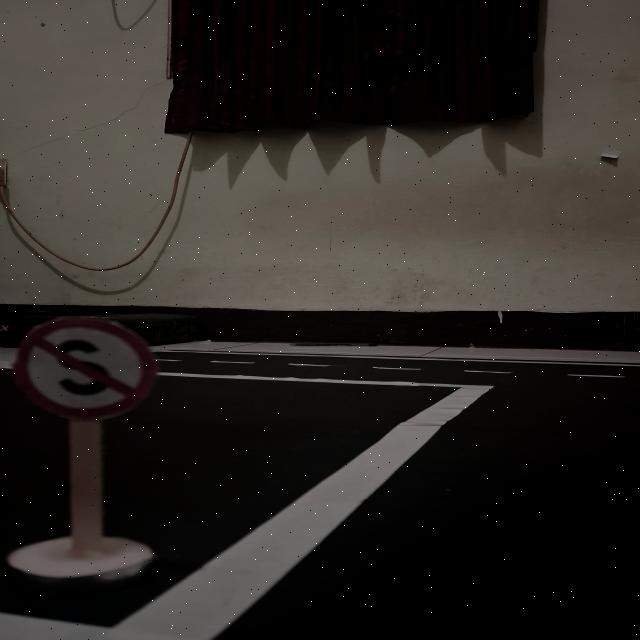Rambu Berhenti: (11, 314, 156, 420)
